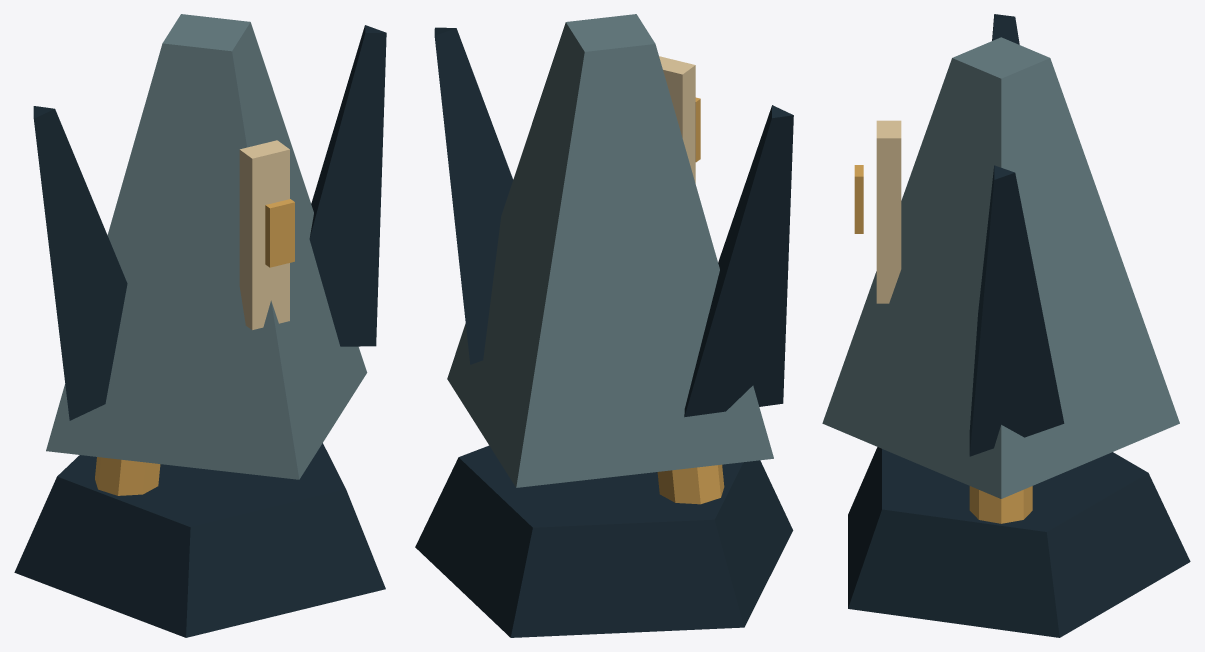
File: sentinel.glb
The picture shows the model from 3 angles, left to right: view 1: azimuth 30°, elevation 25°; view 2: azimuth 150°, elevation 25°; view 3: azimuth 270°, elevation 25°; orthographic projection. The views are drawn at different scales.
Visible parts, largest first — view 1: sentinel_solid; view 2: sentinel_solid; view 3: sentinel_solid.
Part boxes in pixels (bbox=[...]): sentinel_solid: bbox=[14, 14, 386, 637]; sentinel_solid: bbox=[415, 14, 793, 637]; sentinel_solid: bbox=[822, 14, 1190, 637].
Size of the model in its own units: 1.12 by 1.58 by 1.05.
